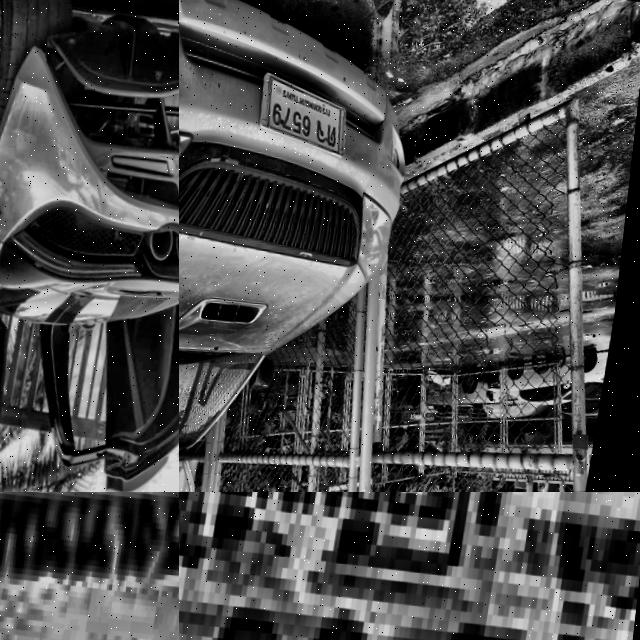license-plate: (179, 492, 640, 640), (0, 492, 179, 640), (253, 62, 361, 157)
